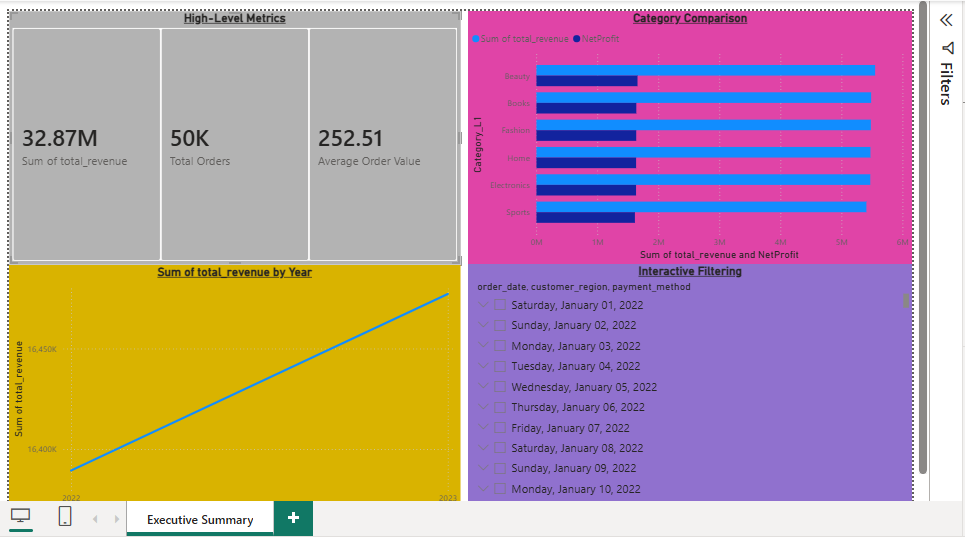

The dashboard page shown, as its layout file describes it:
{"tool":"powerbi","page":{"name":"Executive Summary","canvas":[1280,720],"ordinal":0},"visuals":[{"type":"cardVisual","title":"High-Level Metrics","fields":{"Data":["Sum(Fact_Sales.total_revenue)","Fact_Sales.Total Orders","Fact_Sales.Average Order Value"]},"box":[0,0,640,359.5],"z":0},{"type":"lineChart","fields":{"Category":["Fact_Sales.order_date.Variation.Date Hierarchy.Year","Fact_Sales.order_date.Variation.Date Hierarchy.Quarter","Fact_Sales.order_date.Variation.Date Hierarchy.Month","Fact_Sales.order_date.Variation.Date Hierarchy.Day"],"Y":["Sum(Fact_Sales.total_revenue)"]},"box":[0,359.5,640,361.2],"z":1},{"type":"clusteredBarChart","title":"Category Comparison","fields":{"Category":["Fact_Sales.Category_L1"],"Y":["Sum(Fact_Sales.total_revenue)","Fact_Sales.NetProfit"]},"box":[650,0,630,359],"z":2},{"type":"slicer","title":"Interactive Filtering","fields":{"Values":["Fact_Sales.order_date","Dim_Region.customer_region","Fact_Sales.payment_method"]},"box":[650,359,630,361],"z":3}]}

Visuals, with their boxes on the page's 1280x720 design canvas (x1, y1, x2, y2). These are canvas units, not pixel positions in the 965x537 screenshot, which may show the page scaled, cropped or inside an application window:
"High-Level Metrics" cardVisual: <box>0,0,640,360</box>
lineChart - Fact_Sales.order_date.Variation.Date Hierarchy.Year x Fact_Sales.order_date.Variation.Date Hierarchy.Quarter: <box>0,360,640,721</box>
"Category Comparison" clusteredBarChart: <box>650,0,1280,359</box>
"Interactive Filtering" slicer: <box>650,359,1280,720</box>
